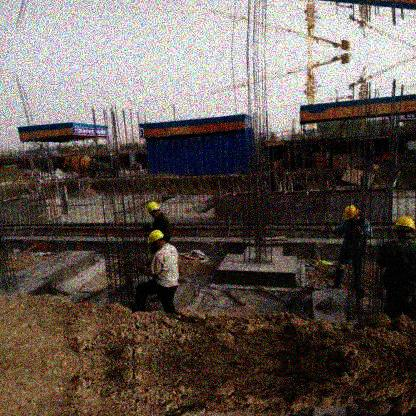helmet: (393, 216, 416, 241), (146, 229, 167, 249), (343, 206, 362, 226), (147, 202, 162, 221)
